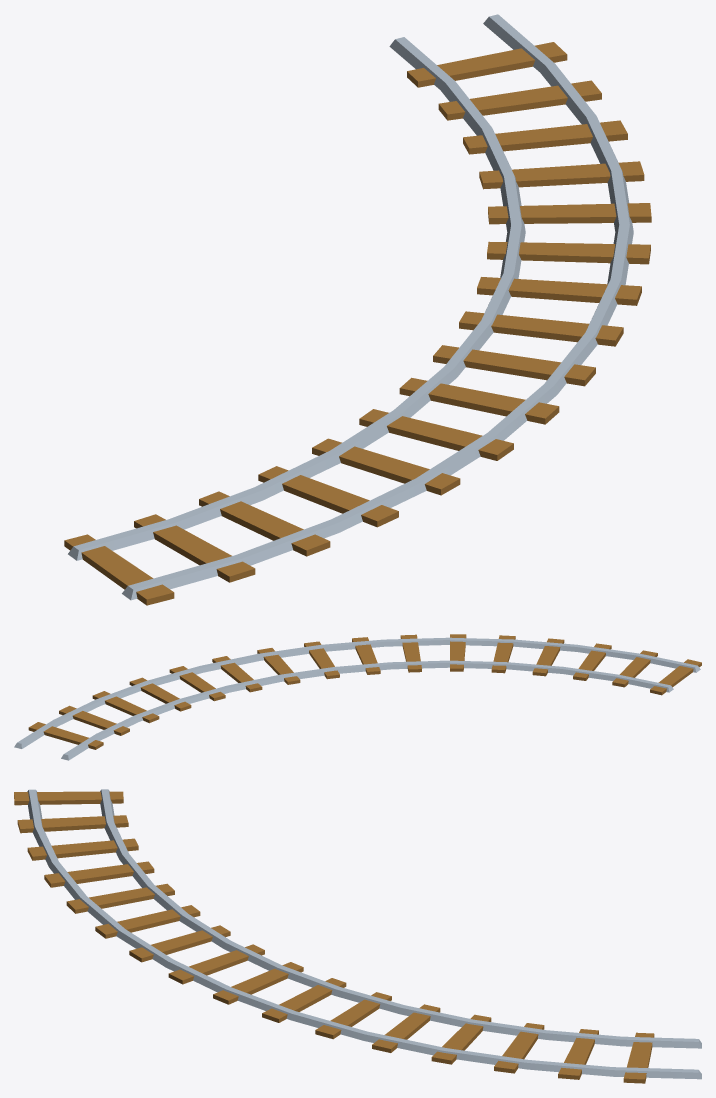
File: Rail2.fbx
3 renders of one model, top to bottom at view 1: azimuth 30°, elevation 25°; view 2: azimuth 150°, elevation 25°; view 3: azimuth 270°, elevation 25°, orthographic. The views are drawn at different scales.
Visible parts, largest first — view 1: Rail2; view 2: Rail2; view 3: Rail2.
Part boxes in pixels (bbox=[...]): Rail2: bbox=[64, 14, 651, 605]; Rail2: bbox=[14, 634, 701, 760]; Rail2: bbox=[14, 789, 701, 1083].
Bounding box in the file's own units: 684 × 6.3 × 686.
